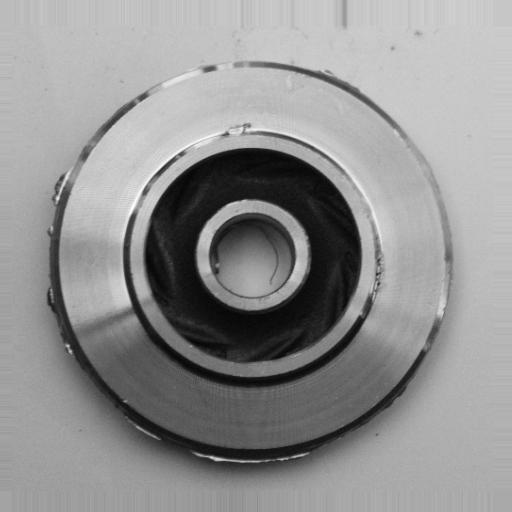casting_with_burr: (42, 59, 461, 467)
crack: (364, 231, 394, 306), (210, 111, 259, 146)
scratch: (173, 125, 228, 150)
